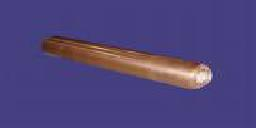Electrolytic-Capacitor: (39, 33, 218, 97)
